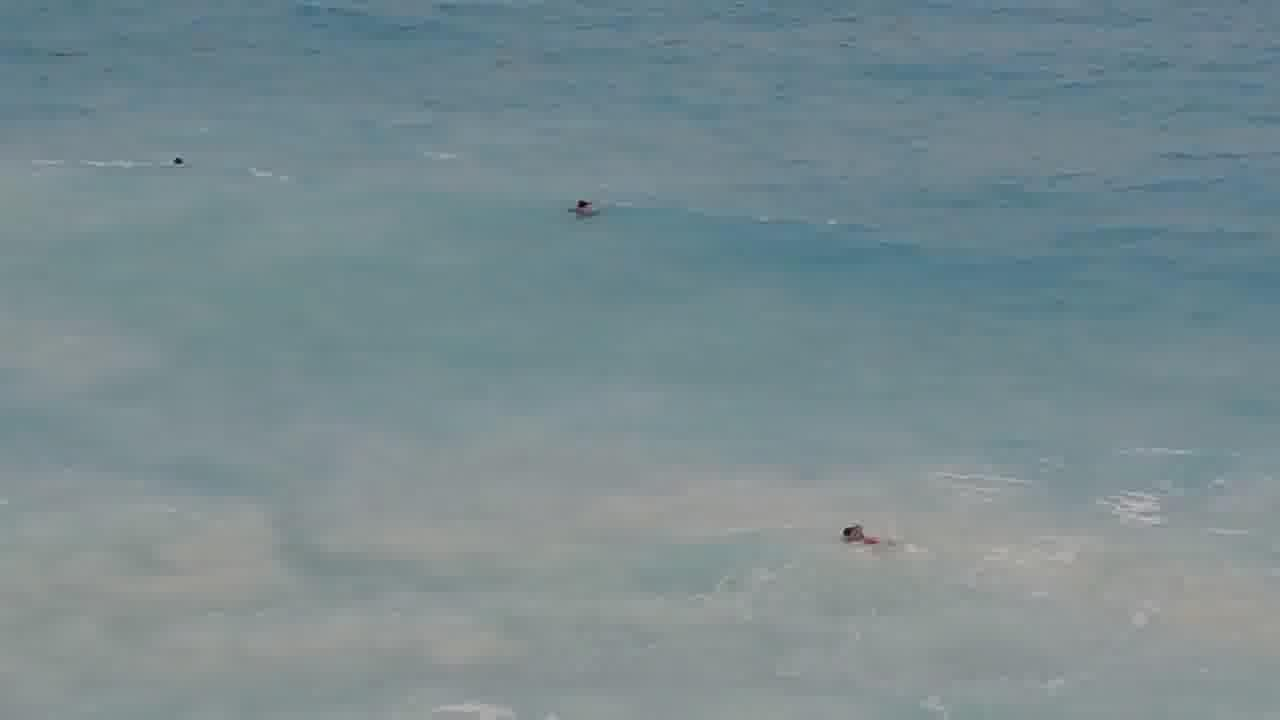swimmer: (833, 513, 875, 543), (565, 192, 604, 222)
